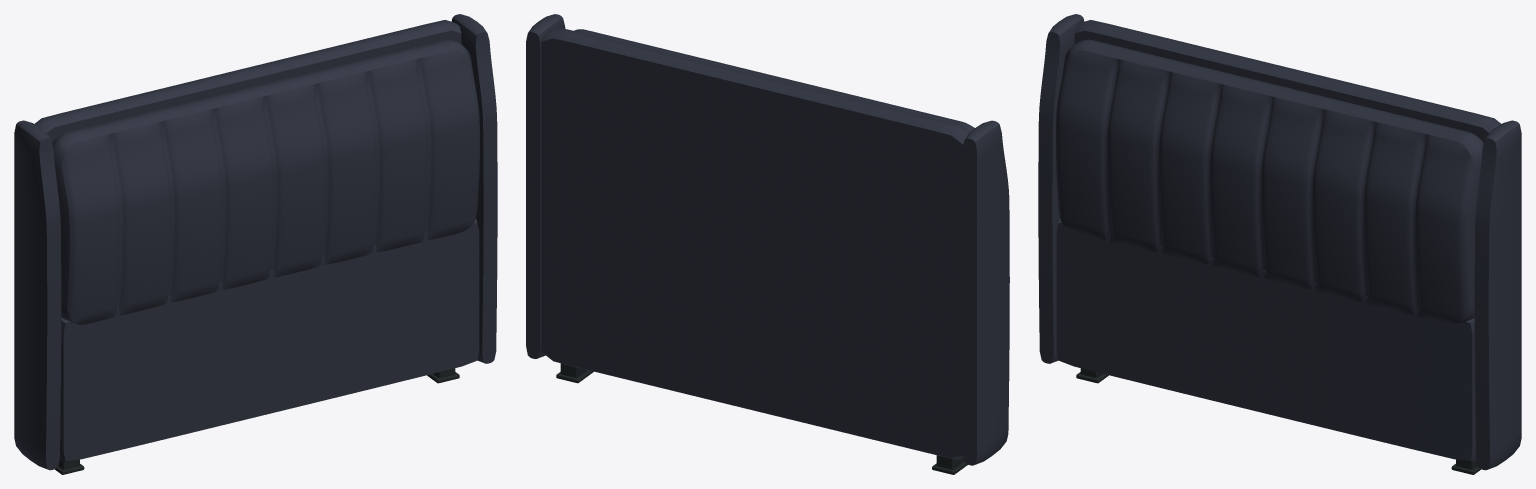
File: 暮蓝织序_竖向分格床屏.glb
3 renders of one model, left to right at view 1: azimuth 30°, elevation 25°; view 2: azimuth 150°, elevation 25°; view 3: azimuth 330°, elevation 25°, orthographic.
Visible parts, largest first — view 1: Continuous_Eight_Channel_Cushion, Floor_Upholstered_Apron, Curved_Wing_Left, Headboard_Standing_Back_Frame, Curved_Wing_Right; view 2: Headboard_Standing_Back_Frame, Curved_Wing_Left, Curved_Wing_Right, Continuous_Eight_Channel_Cushion; view 3: Continuous_Eight_Channel_Cushion, Floor_Upholstered_Apron, Curved_Wing_Right, Headboard_Standing_Back_Frame, Curved_Wing_Left.
Boxes of the visible parts, box(x1,y1,x2,y2) form: Continuous_Eight_Channel_Cushion: box(52, 39, 479, 324); Floor_Upholstered_Apron: box(59, 218, 479, 460); Curved_Wing_Left: box(14, 120, 61, 470); Headboard_Standing_Back_Frame: box(35, 20, 461, 142); Curved_Wing_Right: box(451, 14, 497, 363); Headboard_Standing_Back_Frame: box(541, 27, 970, 459); Curved_Wing_Left: box(963, 120, 1009, 465); Curved_Wing_Right: box(526, 14, 565, 358); Continuous_Eight_Channel_Cushion: box(574, 29, 974, 131); Continuous_Eight_Channel_Cushion: box(1056, 39, 1483, 324); Floor_Upholstered_Apron: box(1056, 218, 1476, 460); Curved_Wing_Right: box(1474, 120, 1521, 470); Headboard_Standing_Back_Frame: box(1074, 20, 1500, 142); Curved_Wing_Left: box(1038, 14, 1084, 363).
Bounding box in the file's own units: 1.72 × 1.25 × 0.248.
Materials: 2 (1 with a texture image).
